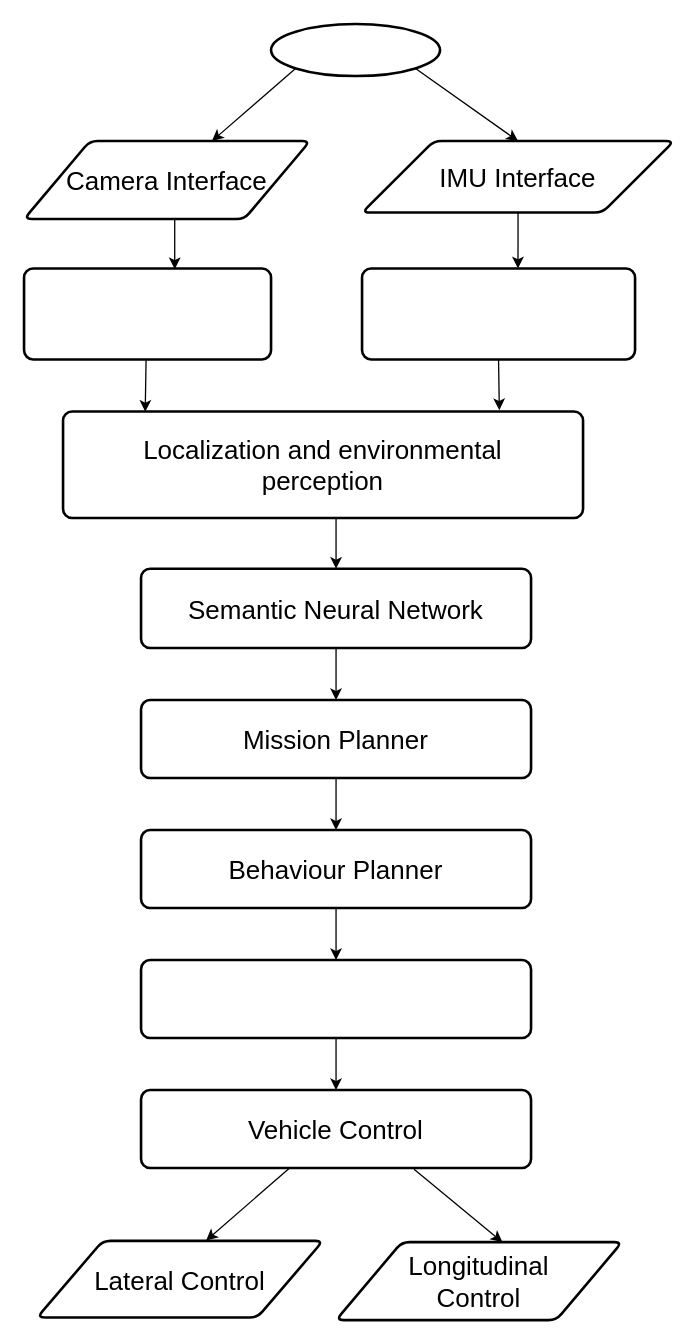
Image size: 697x1343. Some labels were removed from this diagram. Each missing label, with the centre of its shape:
"Local Planner" belongs at point 335,998.
"Start" belongs at point 355,49.
"Vehicle State Estimation" belongs at point 498,313.
"Vision" belongs at point 147,313.
